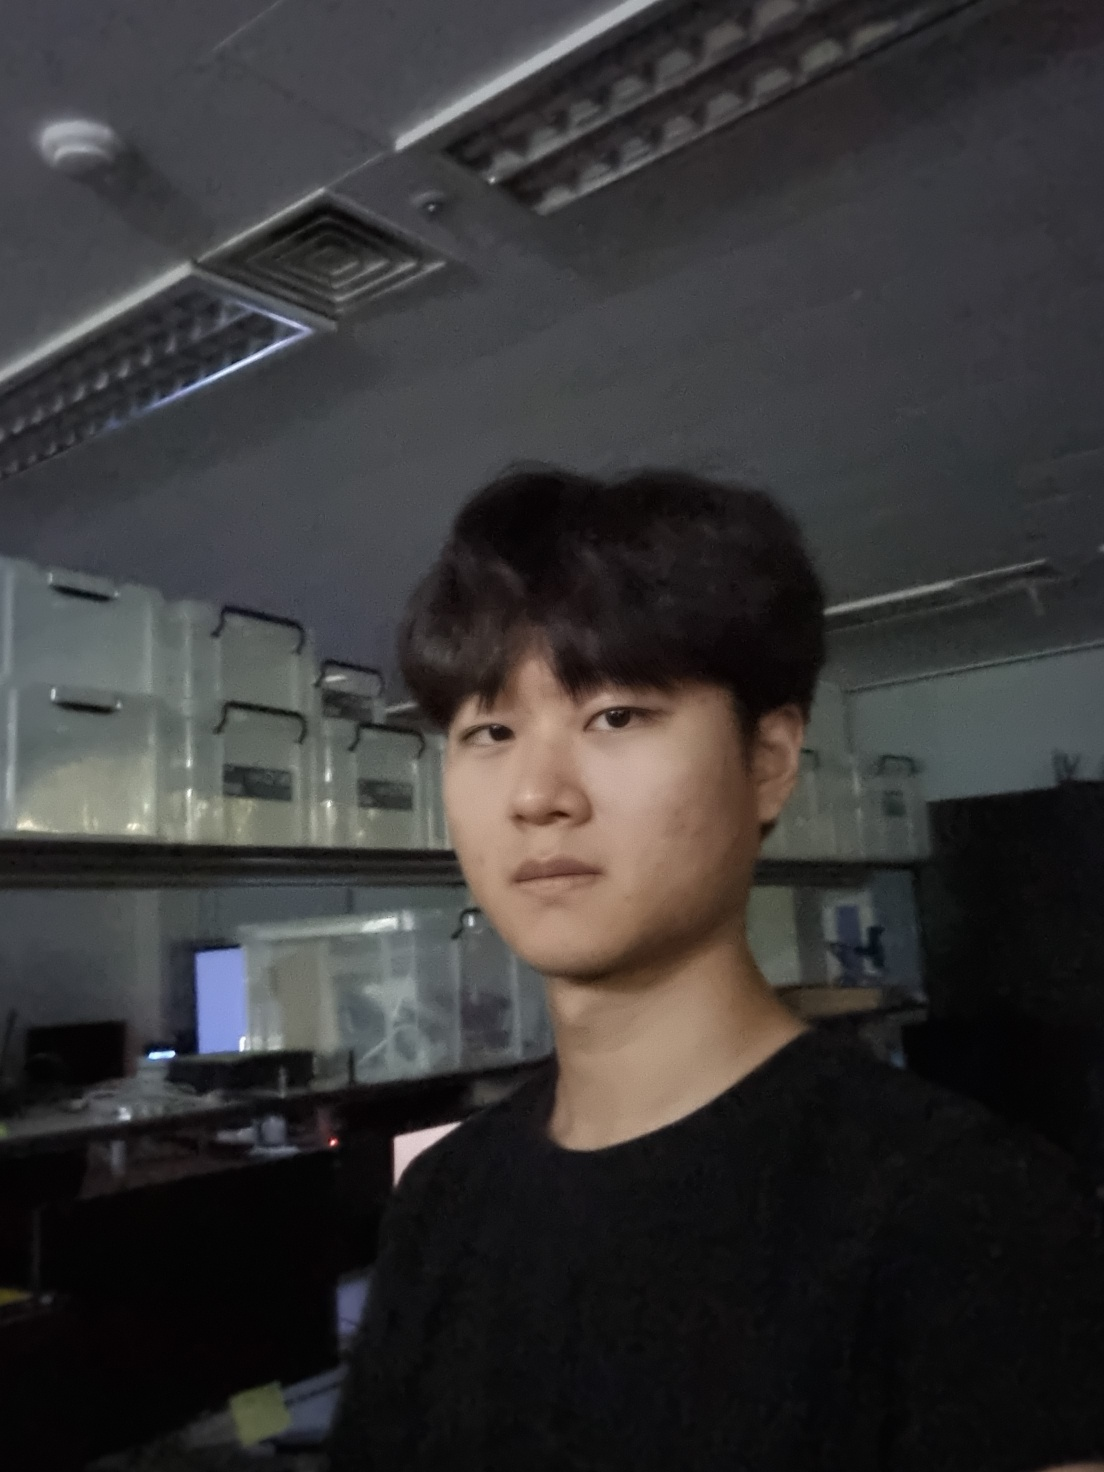Non-Helmet: (335, 432, 874, 1019)
